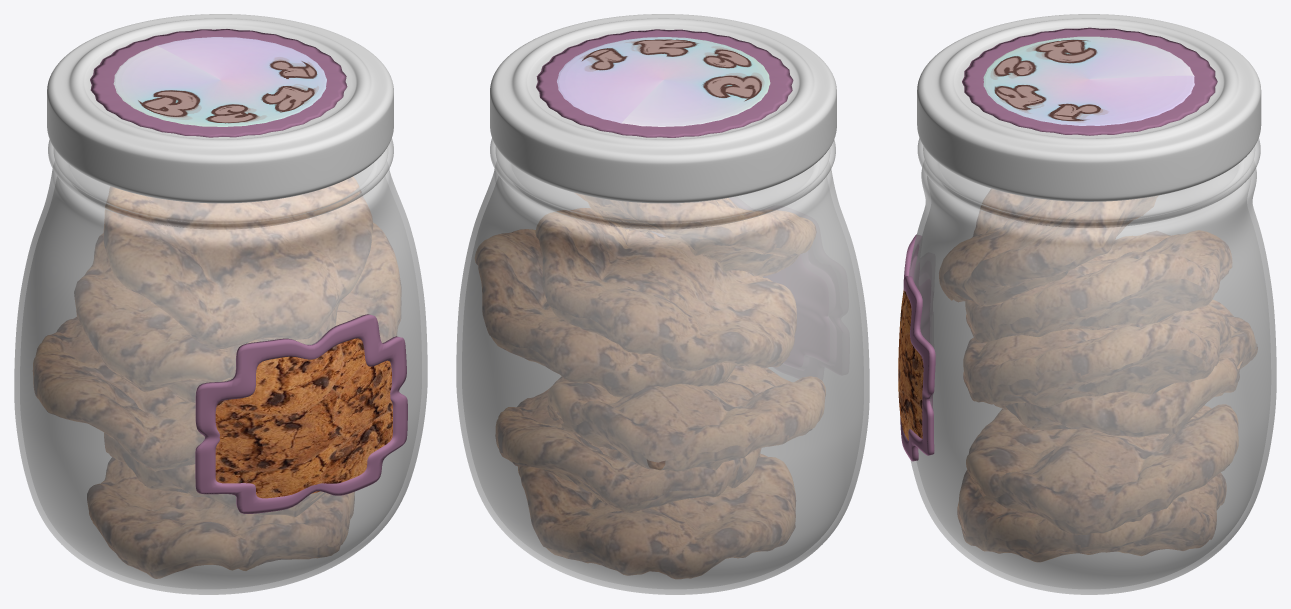
File: cookie.fbx
3 views of the same model, side by side, from view 1: azimuth 30°, elevation 25°; view 2: azimuth 150°, elevation 25°; view 3: azimuth 270°, elevation 25° (orthographic).
Parts seen in each view (by area): view 1: Cylinder, Cylinder.001, Sphere.016, Cylinder.002, Sphere, Sphere.002, Sphere.012, Cylinder.003, Sphere.018, Circle, Sphere.014, Sphere.001 (+2 smaller); view 2: Cylinder, Cylinder.001, Sphere.018, Sphere.002, Sphere.012, Sphere, Sphere.014, Sphere.010, Circle, Sphere.015, Sphere.016, Cylinder.003 (+5 smaller); view 3: Cylinder, Cylinder.001, Sphere.010, Sphere, Sphere.016, Sphere.014, Sphere.018, Sphere.012, Sphere.002, Circle, Sphere.013, Sphere.017 (+6 smaller).
Part boxes in pixels (x1,y1,x2,y2): Cylinder: [14, 138, 427, 594]; Cylinder.001: [47, 14, 393, 203]; Sphere.016: [104, 177, 372, 349]; Cylinder.002: [215, 338, 392, 498]; Sphere: [113, 37, 326, 126]; Sphere.002: [87, 457, 353, 572]; Sphere.012: [33, 317, 204, 467]; Cylinder.003: [195, 314, 407, 513]; Sphere.018: [74, 234, 335, 387]; Circle: [90, 29, 347, 137]; Sphere.014: [168, 223, 400, 402]; Sphere.001: [93, 492, 354, 578]; Cylinder: [456, 138, 869, 594]; Cylinder.001: [490, 14, 836, 203]; Sphere.018: [535, 208, 796, 369]; Sphere.002: [518, 454, 795, 576]; Sphere.012: [548, 365, 825, 461]; Sphere: [557, 37, 770, 126]; Sphere.014: [475, 229, 735, 395]; Sphere.010: [496, 389, 760, 505]; Circle: [536, 29, 793, 137]; Sphere.015: [575, 193, 797, 276]; Sphere.016: [637, 198, 816, 268]; Cylinder.003: [763, 254, 829, 367]; Cylinder: [908, 138, 1276, 594]; Cylinder.001: [917, 14, 1261, 201]; Sphere.010: [966, 404, 1238, 528]; Sphere: [983, 36, 1194, 125]; Sphere.016: [939, 189, 1130, 305]; Sphere.014: [963, 305, 1231, 392]; Sphere.018: [965, 230, 1232, 333]; Sphere.012: [1005, 300, 1255, 432]; Sphere.002: [959, 470, 1226, 547]; Circle: [962, 27, 1217, 135]; Sphere.013: [963, 344, 1227, 407]; Sphere.017: [966, 270, 1228, 342].
Bounding box in the file's own units: 9.15 × 11.29 × 8.22.
